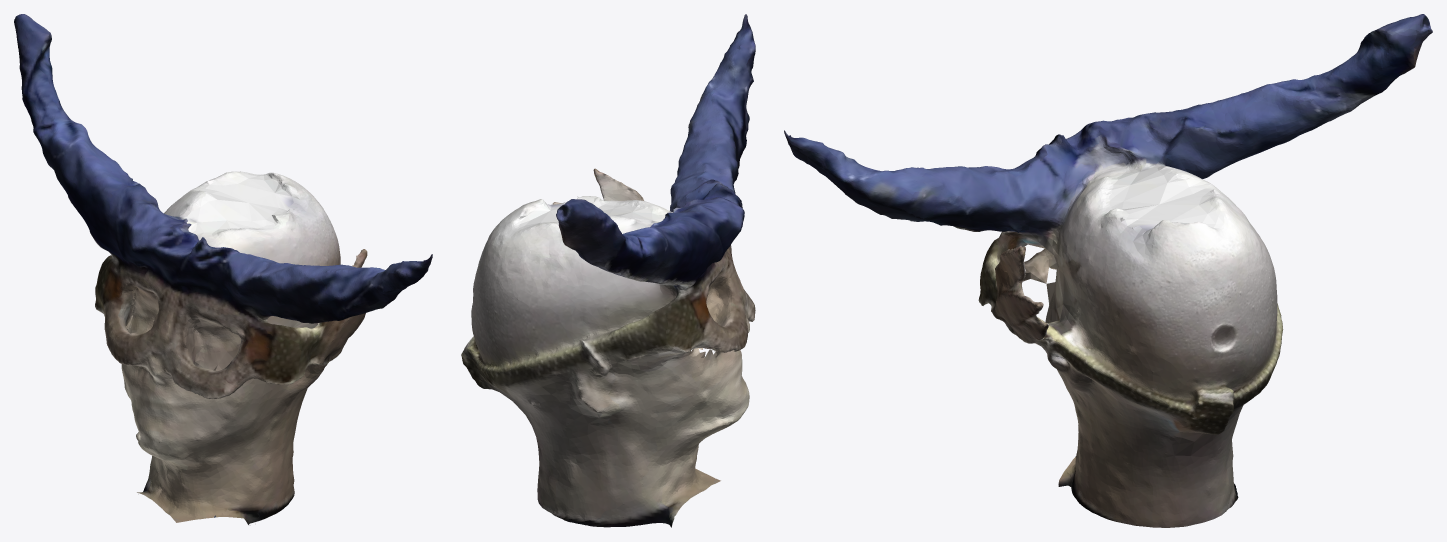
Rendered from Seung_Jeon.glb.
3 renders of one model, left to right at view 1: azimuth 30°, elevation 25°; view 2: azimuth 150°, elevation 25°; view 3: azimuth 270°, elevation 25°, orthographic. The views are drawn at different scales.
Parts seen in each view (by area): view 1: mesh.005; view 2: mesh.005; view 3: mesh.005.
Part boxes in pixels (x1,y1,x2,y2): mesh.005: (14, 14, 432, 524); mesh.005: (461, 14, 755, 527); mesh.005: (784, 14, 1432, 527).
Bounding box in the file's own units: 2.65 × 4.24 × 5.7.
Materials: 1 (1 with a texture image).
